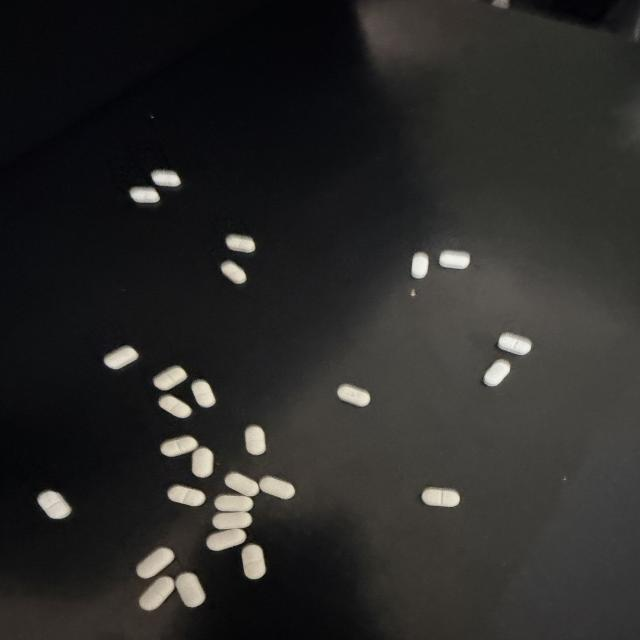pill: (139, 576, 174, 610), (136, 547, 174, 578), (176, 573, 205, 607), (37, 491, 71, 519), (206, 529, 246, 550), (153, 366, 187, 390), (260, 476, 295, 499), (242, 544, 265, 579), (167, 485, 205, 506), (104, 346, 138, 369), (225, 473, 259, 496), (159, 394, 191, 418), (498, 333, 532, 355), (161, 436, 198, 456), (483, 359, 510, 386), (337, 384, 370, 406), (422, 488, 460, 507), (214, 494, 253, 512), (213, 512, 252, 529), (245, 425, 266, 455), (192, 447, 213, 477), (192, 380, 215, 407), (439, 250, 470, 269), (150, 169, 181, 188), (221, 261, 246, 284), (226, 234, 255, 253), (129, 187, 160, 203), (412, 252, 428, 278)
